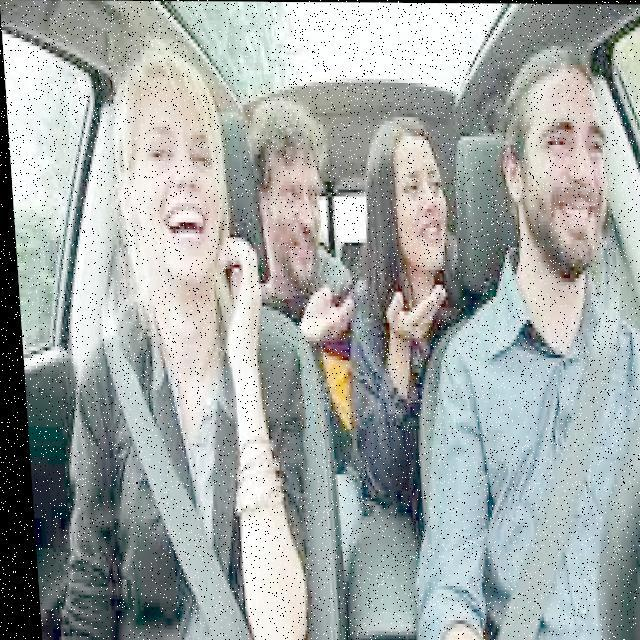seatbelt: (416, 287, 630, 640), (53, 316, 254, 640)
